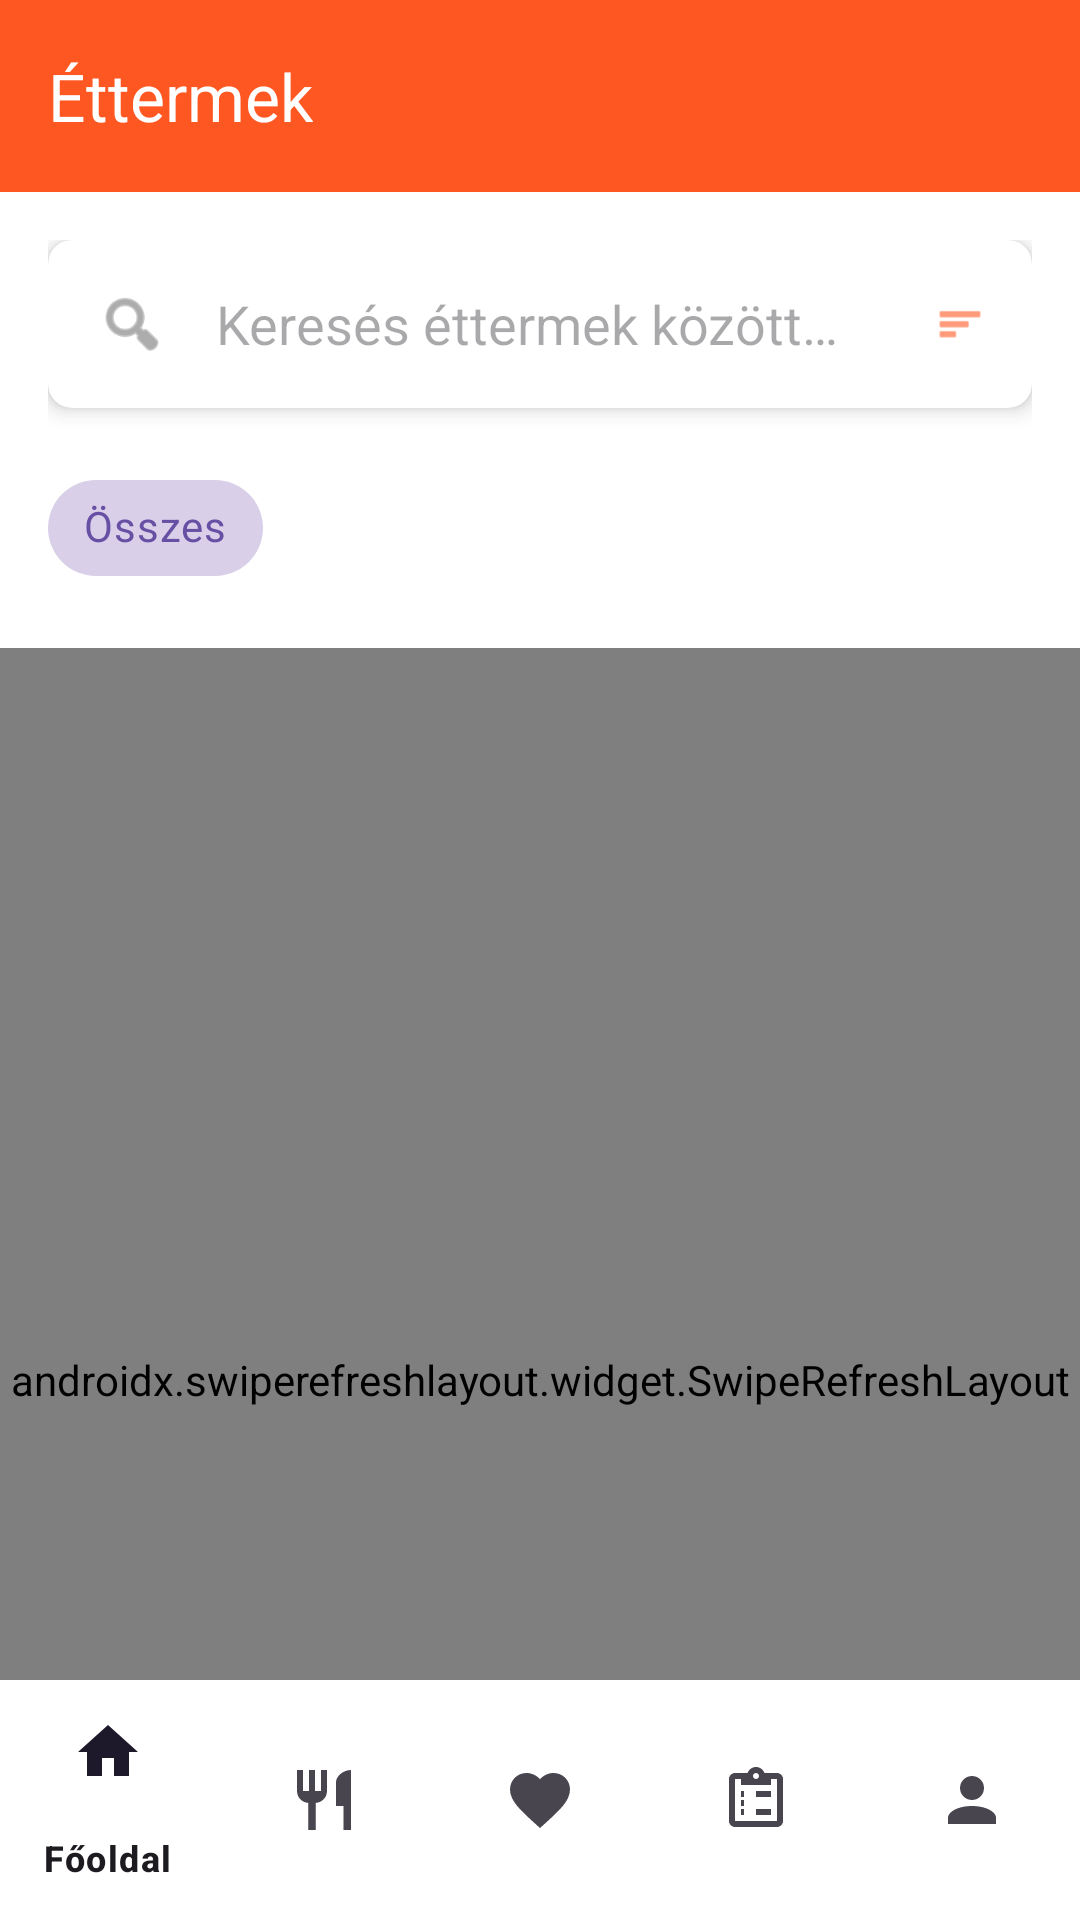

Icons on this 1080 x 1920 Android screen, each with its box as (x1, y1, x2, y2):
search: (106, 298, 158, 351)
